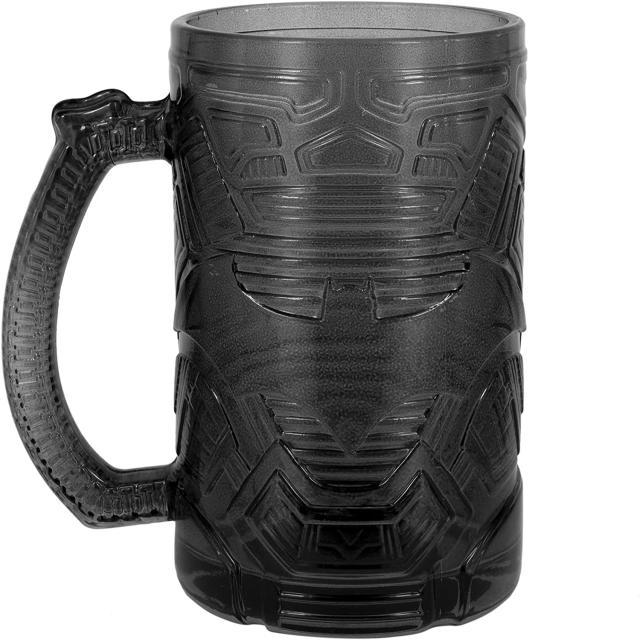Coffee Mug: (1, 1, 528, 640)
